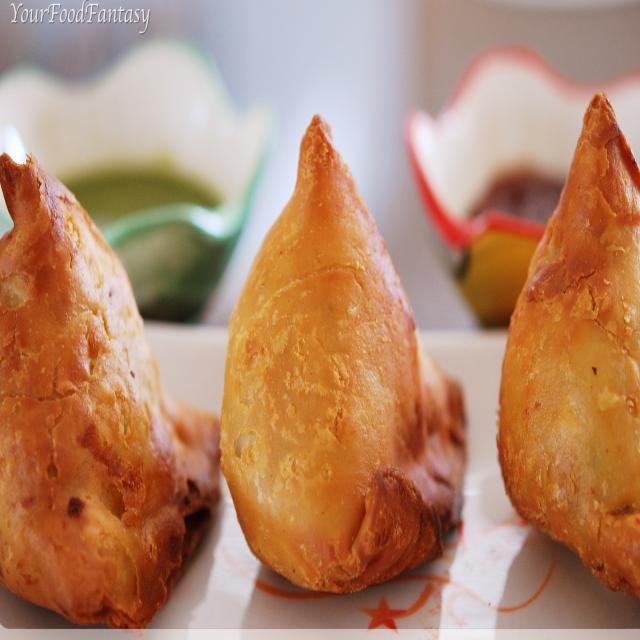samosa: (210, 90, 473, 628)
